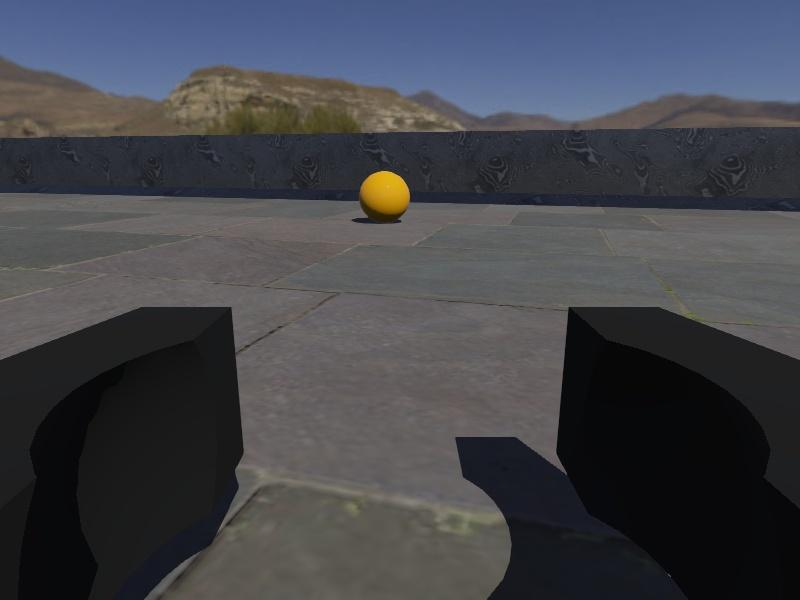orange ball: (358, 169, 412, 225)
